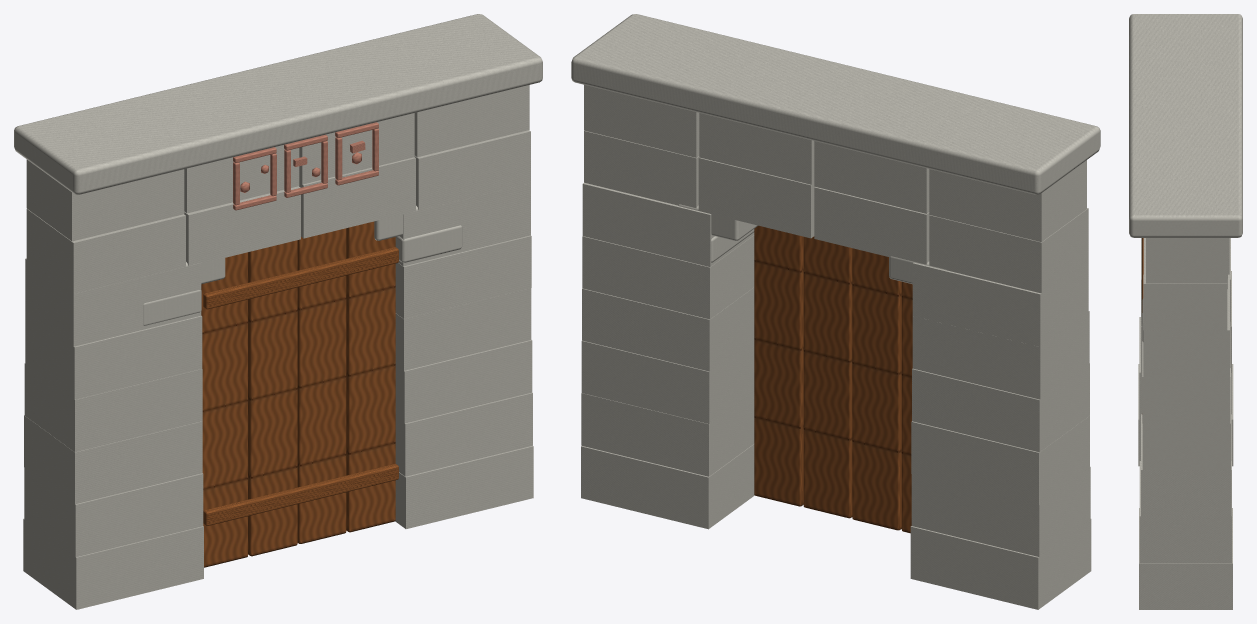
The model's file is jungle-temple-and-stone-city-corbel-arch-doorway-96ce9351__36116.glb.
3 renders of one model, left to right at view 1: azimuth 30°, elevation 25°; view 2: azimuth 150°, elevation 25°; view 3: azimuth 270°, elevation 25°, orthographic. The views are drawn at different scales.
Visible parts, largest first — view 1: corbel-arch-doorway, door-corbel; view 2: corbel-arch-doorway, door-corbel; view 3: corbel-arch-doorway.
Boxes of the visible parts, left/top/right/bottom form: corbel-arch-doorway: left=14, top=14, right=542, bottom=609; door-corbel: left=201, top=221, right=398, bottom=567; corbel-arch-doorway: left=571, top=14, right=1100, bottom=609; door-corbel: left=754, top=225, right=912, bottom=533; corbel-arch-doorway: left=1129, top=14, right=1242, bottom=609.
Size of the model in its own units: 3.06 by 2.76 by 0.7198.
3 materials, 3 textured.
